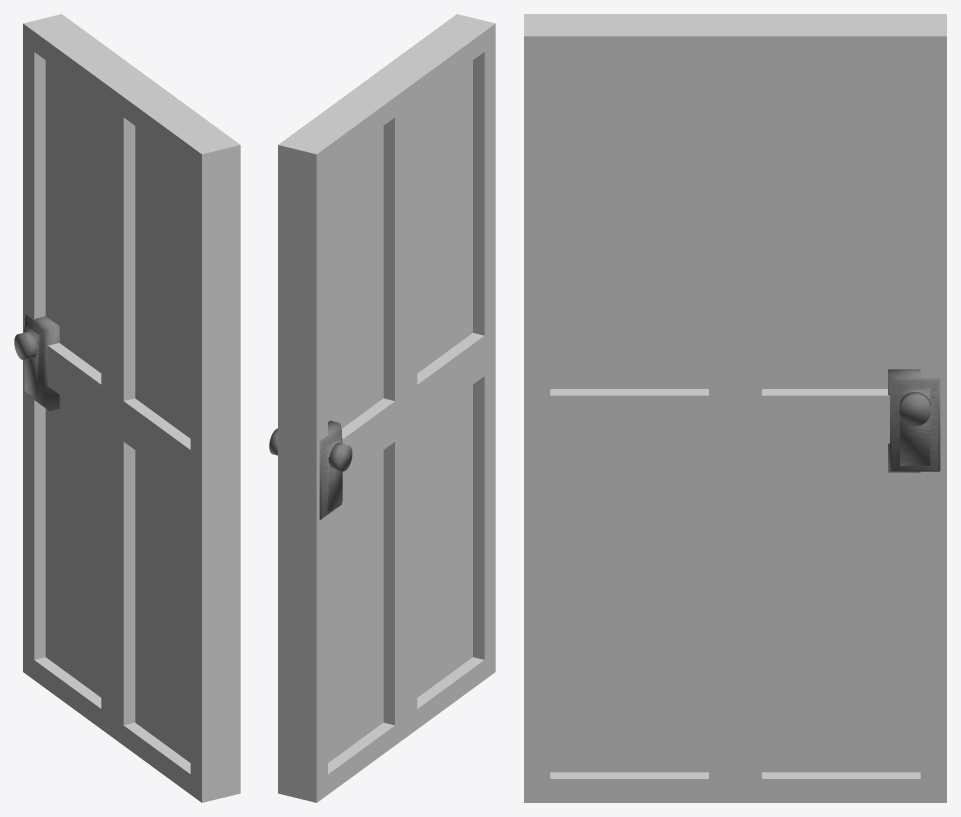
The model's file is Door.fbx.
The picture shows the model from 3 angles, left to right: view 1: azimuth 30°, elevation 25°; view 2: azimuth 150°, elevation 25°; view 3: azimuth 270°, elevation 25°; orthographic projection. The views are drawn at different scales.
Parts seen in each view (by area): view 1: Door; view 2: Door; view 3: Door.
Boxes of the visible parts, x1,y1,x2,y2 form: Door: [14, 14, 240, 802]; Door: [269, 14, 495, 802]; Door: [524, 14, 946, 802].
Size of the model in its own units: 90.03 by 800 by 400.
